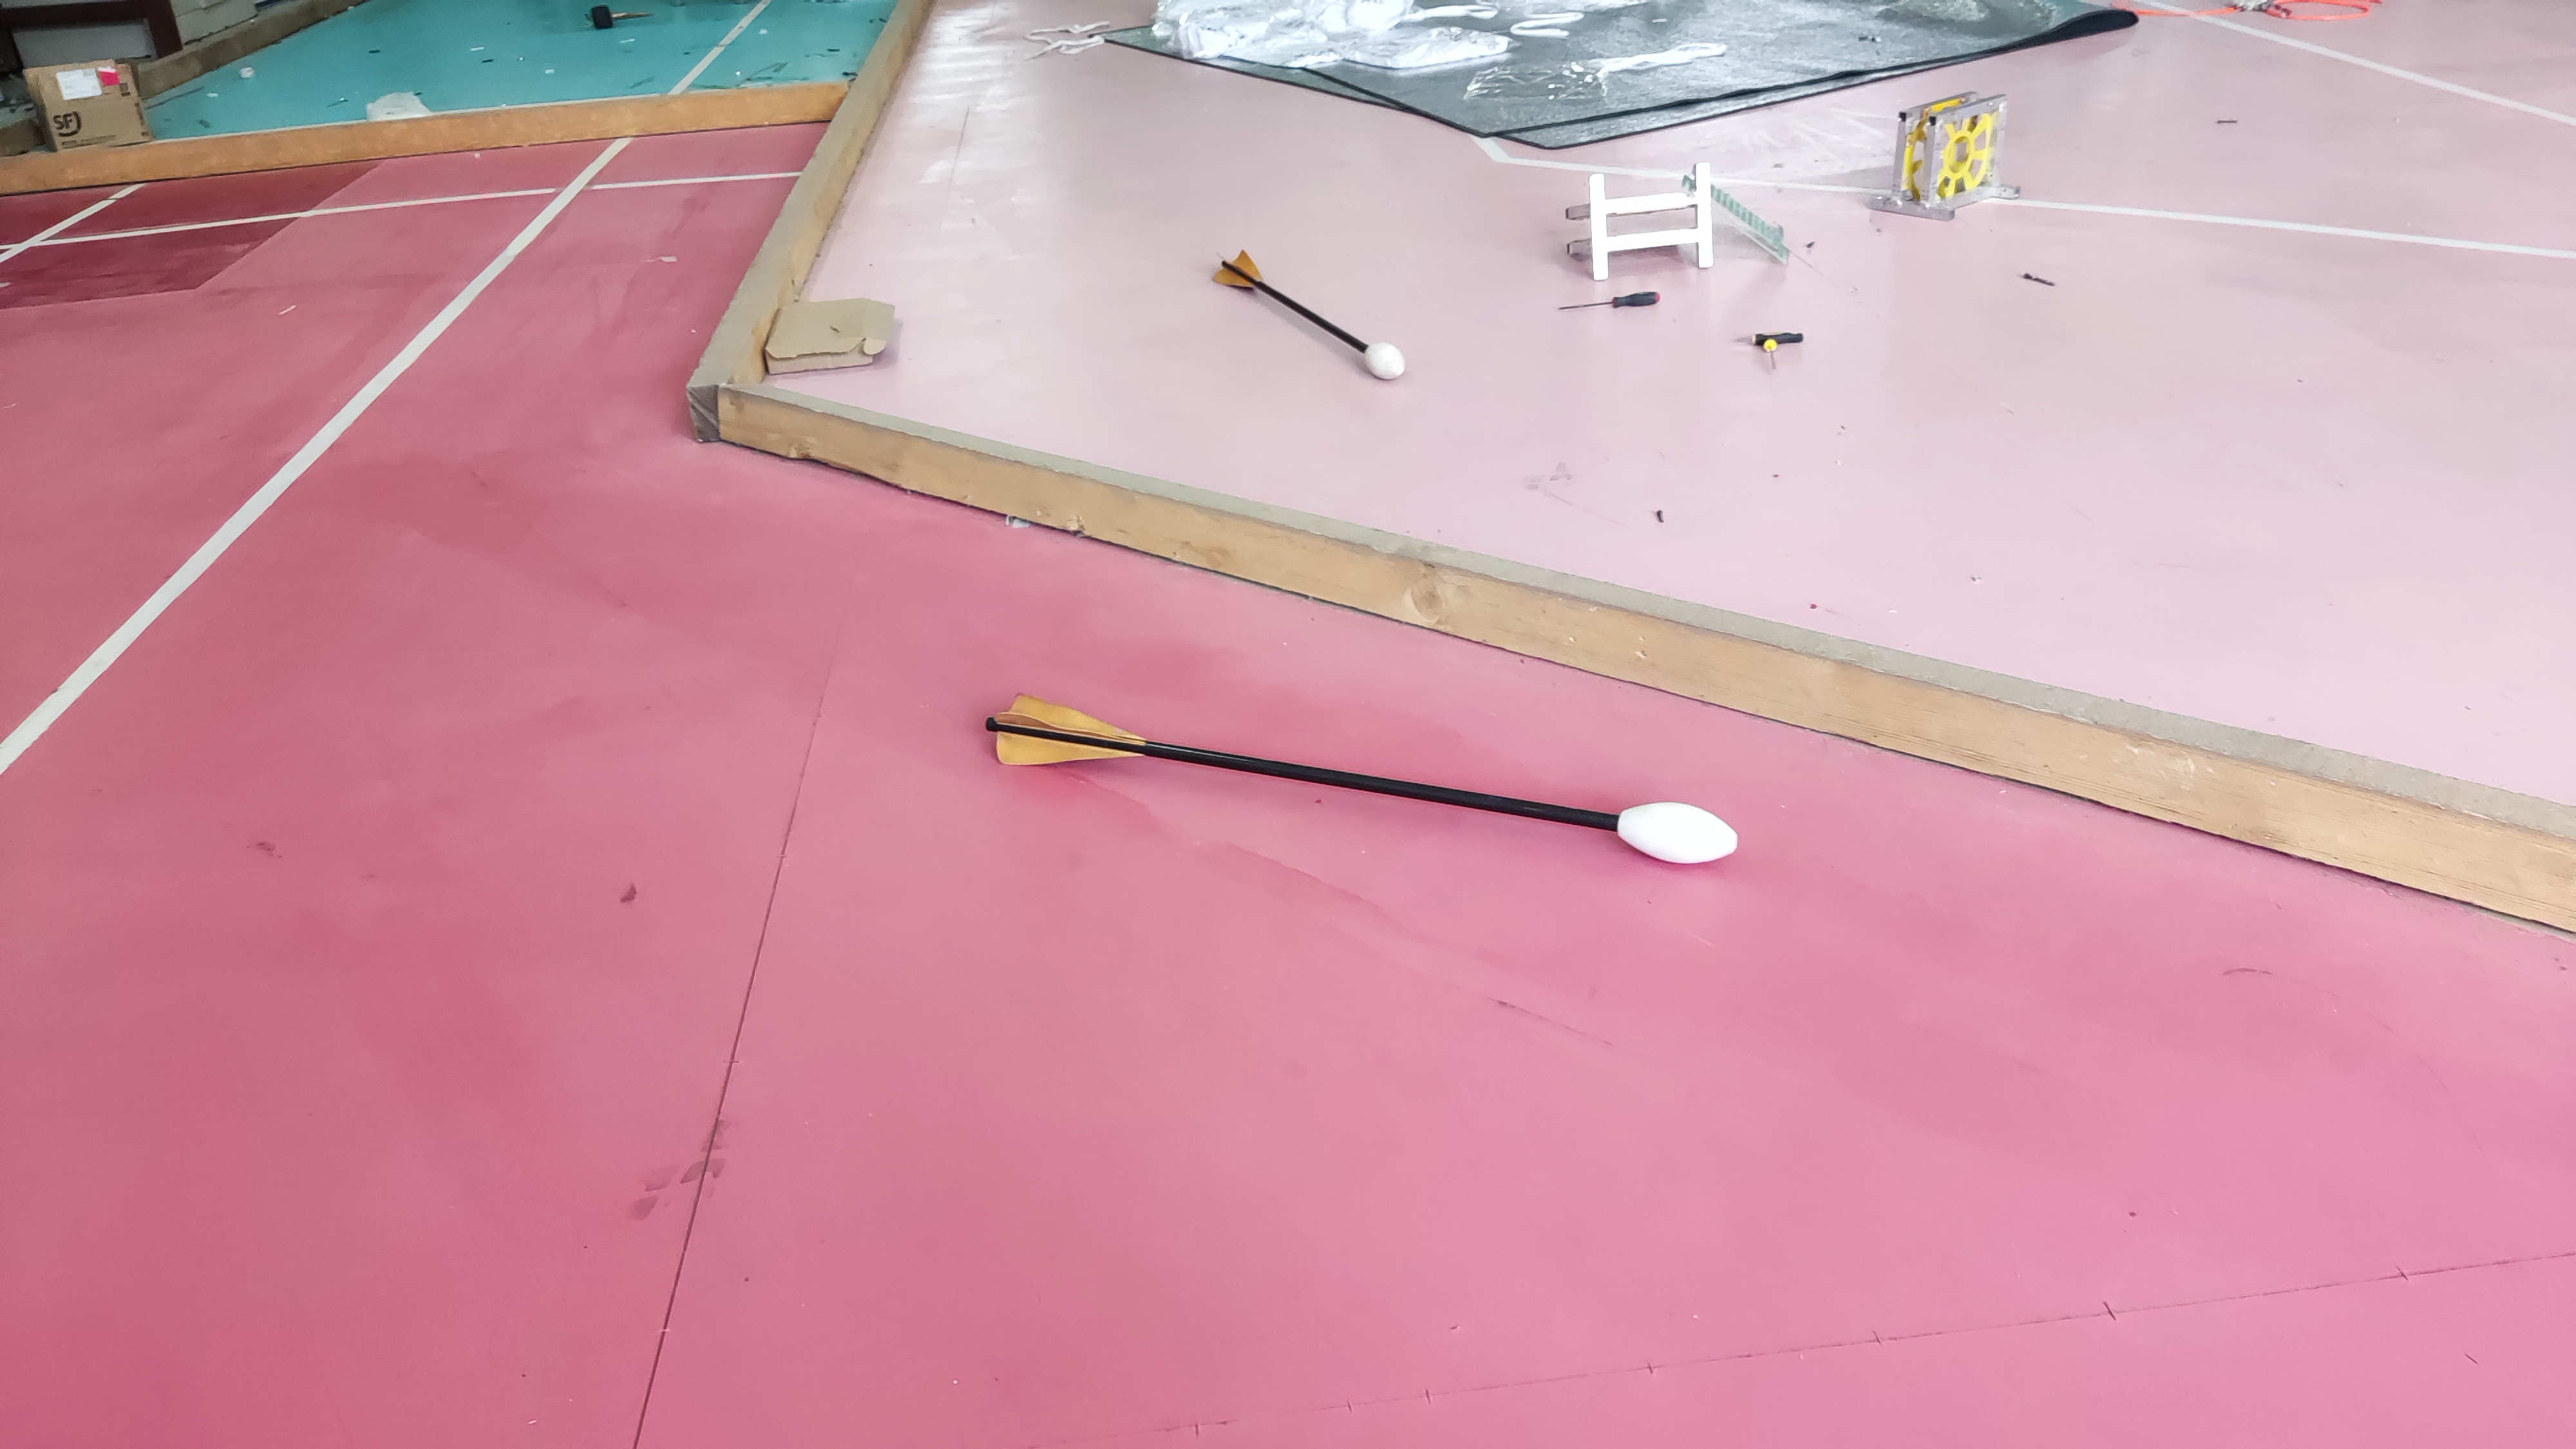arrow: (980, 688, 1743, 869), (1214, 248, 1421, 387)
arrowFront: (1617, 796, 1744, 867), (1362, 338, 1410, 387)
